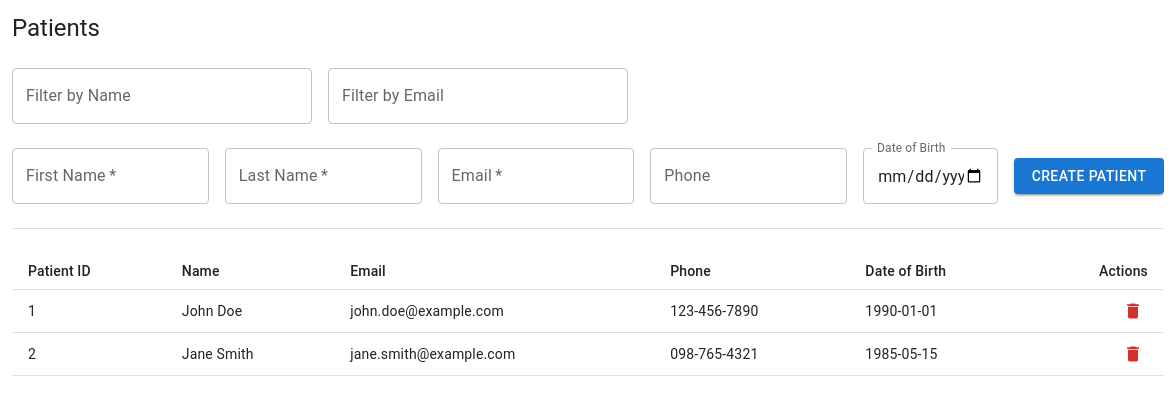
Scenario: PatientsPage › filters patients by email
Expected: the text "John Doe" is shown, [166,290,334,332]
Type "jane.smith" into the field with placeholder "Search by email...". click: (478, 96)
box: [328,68,628,124]
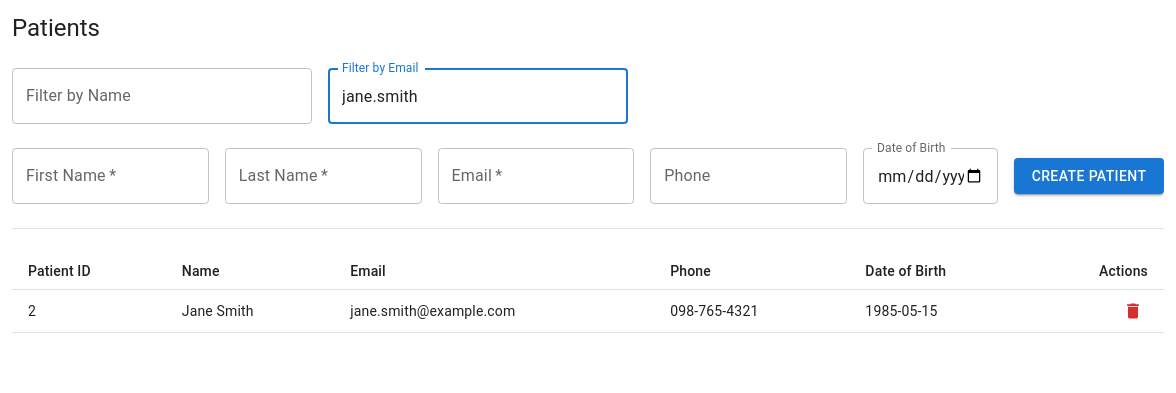
Expected: the text "Jane Smith" is shown, [166,290,334,332]
Expected: the text "John Doe" is gone
